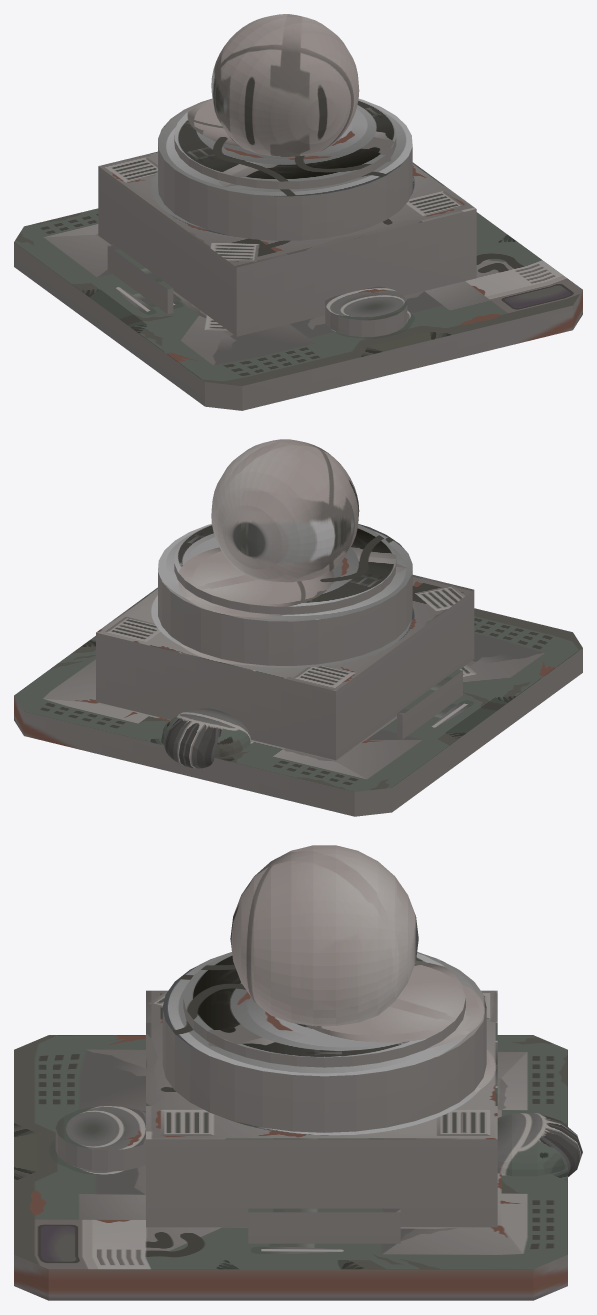
The model's file is Building_AncientGravReactor__Off.glb.
The picture shows the model from 3 angles, top to bottom: view 1: azimuth 30°, elevation 25°; view 2: azimuth 150°, elevation 25°; view 3: azimuth 270°, elevation 25°; orthographic projection. The views are drawn at different scales.
Visible parts, largest first — view 1: AncientGravReactor; view 2: AncientGravReactor; view 3: AncientGravReactor.
Boxes of the visible parts, x1,y1,x2,y2 form: AncientGravReactor: [14, 14, 582, 410]; AncientGravReactor: [14, 439, 582, 816]; AncientGravReactor: [14, 845, 582, 1300].
Size of the model in its own units: 4 by 2.63 by 4.11.
1 material, 1 textured.
